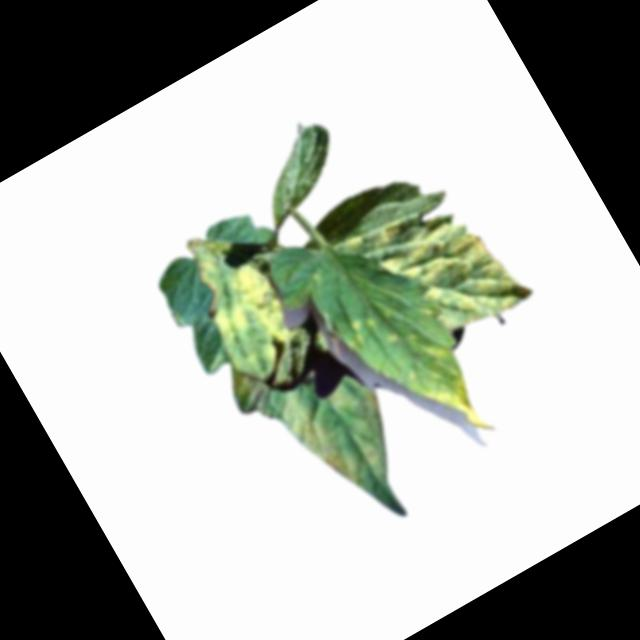Leaf_Mold: (360, 176, 533, 354), (268, 353, 412, 504), (176, 222, 305, 376), (397, 339, 498, 456)
